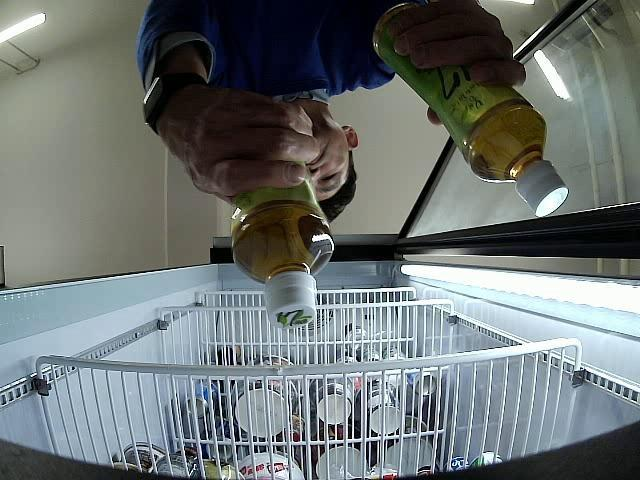19_17cha: (376, 7, 568, 218), (230, 163, 338, 327)
